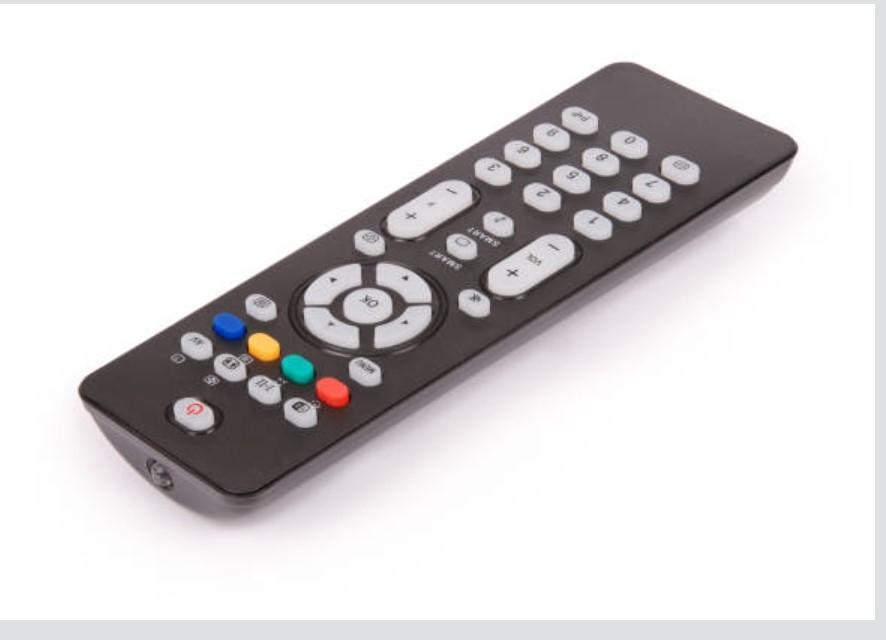Remote control: (76, 62, 800, 524)
